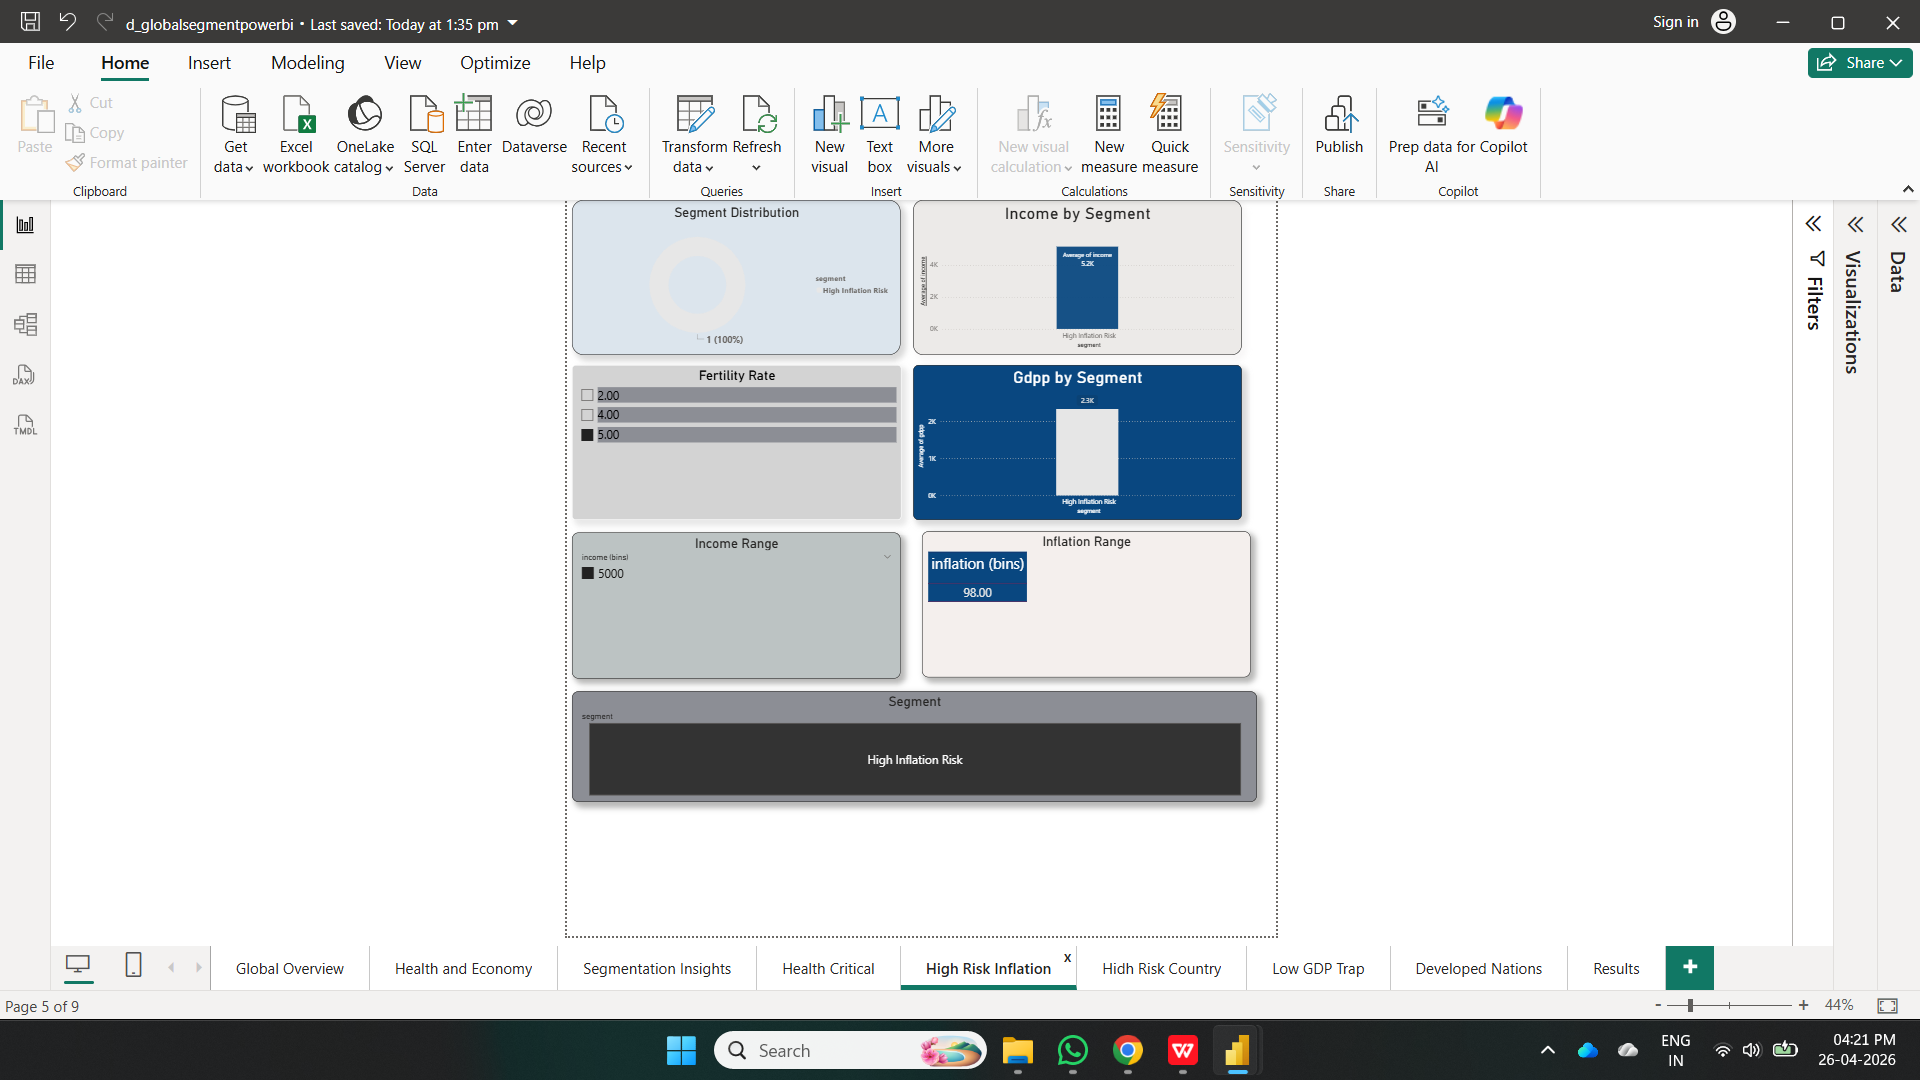

What the dashboard file says about the page in this screenshot:
{"tool":"powerbi","page":{"name":"High Risk Inflation","canvas":[1280,1330],"ordinal":4},"visuals":[{"type":"donutChart","title":"Segment Distribution","fields":{"Category":["country_clean.segment"],"Y":["CountNonNull(country_clean.country)"]},"box":[10,0,593.8,280],"z":0},{"type":"clusteredColumnChart","title":"Income by Segment","fields":{"Category":["country_clean.segment"],"Y":["Avg(country_clean.income)"]},"box":[626.2,0,593.8,280],"z":1000},{"type":"slicer","title":"Fertility Rate","fields":{"Values":["country_clean.total_fer (bins)"]},"box":[8.8,298.8,595,280],"z":2000},{"type":"clusteredColumnChart","title":"Gdpp by Segment","fields":{"Category":["country_clean.segment"],"Y":["Avg(country_clean.gdpp)"]},"box":[626.2,298.8,593.8,280],"z":3000},{"type":"slicer","title":"Income Range","fields":{"Values":["country_clean.income (bins)"]},"box":[10,600,593.8,263.8],"z":4000},{"type":"tableEx","title":"Inflation Range","fields":{"Values":["country_clean.inflation (bins)"]},"box":[641.2,597.5,593.8,263.8],"z":5000},{"type":"slicer","title":"Segment","fields":{"Values":["country_clean.segment"]},"box":[10,888.8,1237.5,200],"z":6000}]}

Visuals, with their boxes on the page's 1280x1330 design canvas (x1, y1, x2, y2). These are canvas units, not pixel positions in the 1920x1080 screenshot, which may show the page scaled, cropped or inside an application window:
"Segment Distribution" donutChart: (10,0,604,280)
"Income by Segment" clusteredColumnChart: (626,0,1220,280)
"Fertility Rate" slicer: (9,299,604,579)
"Gdpp by Segment" clusteredColumnChart: (626,299,1220,579)
"Income Range" slicer: (10,600,604,864)
"Inflation Range" tableEx: (641,598,1235,861)
"Segment" slicer: (10,889,1248,1089)
